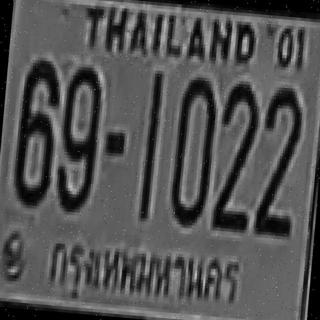N00: (167, 74, 218, 225), (59, 63, 106, 190), (61, 63, 105, 164)
N01: (141, 72, 163, 196)
N02: (256, 84, 303, 214), (213, 81, 260, 211), (210, 103, 257, 230)
N06: (13, 58, 64, 206)
N09: (57, 63, 106, 211)
P04: (39, 227, 249, 319)
